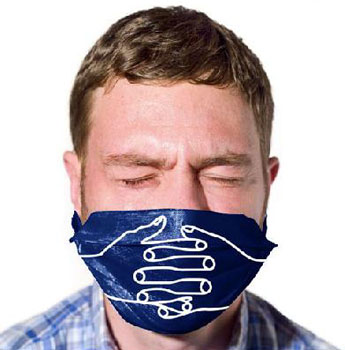face_mask: (82, 69, 266, 325)
